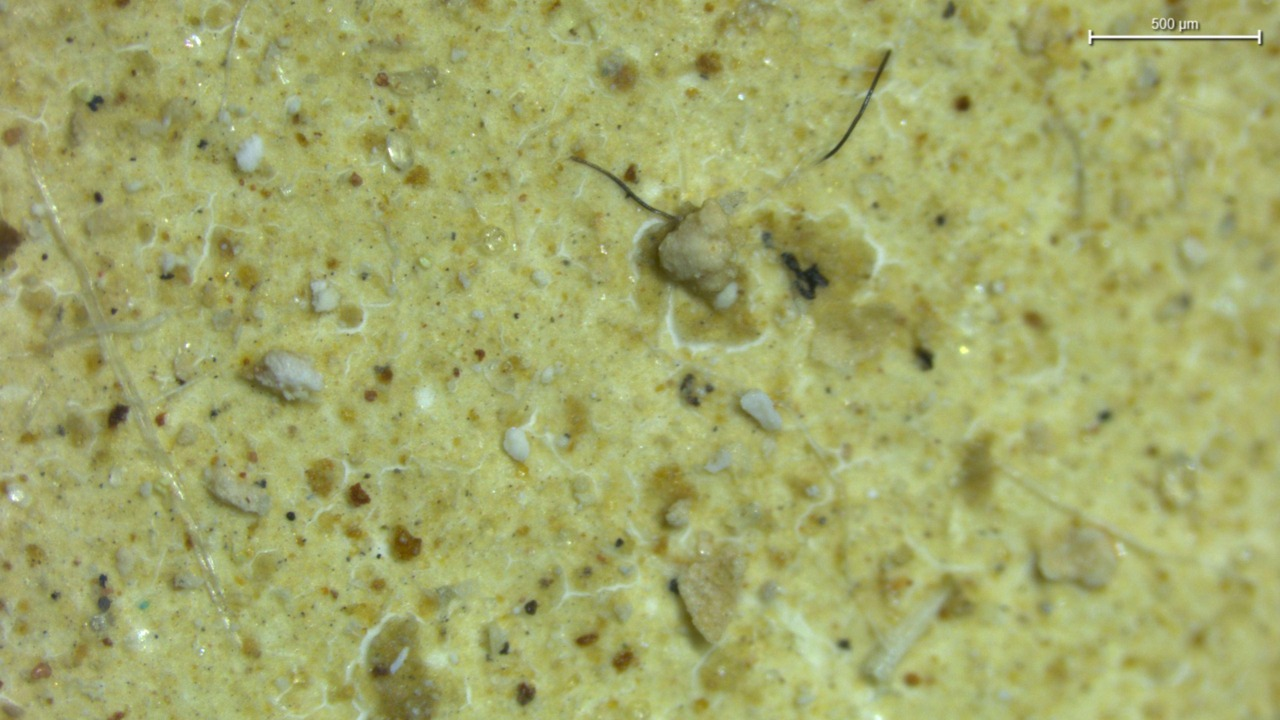microplastic_fragment: (658, 199, 740, 312), (678, 554, 740, 643), (205, 461, 270, 514), (254, 351, 322, 401), (740, 390, 782, 430), (235, 135, 265, 172), (503, 427, 530, 462)
